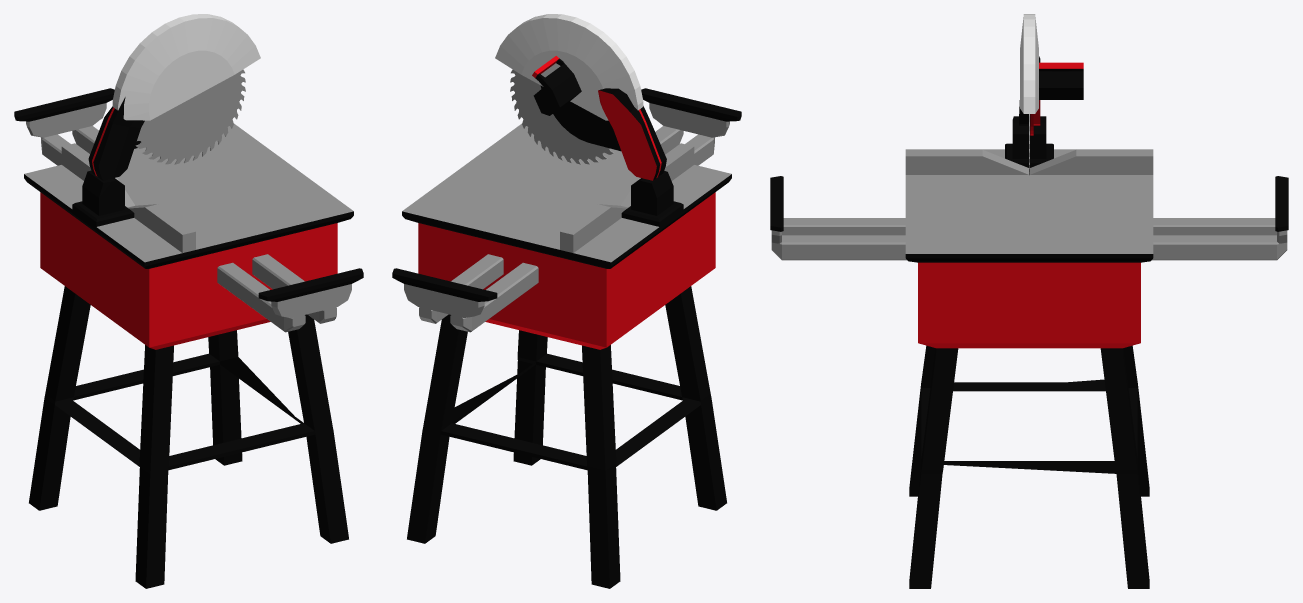
The model's file is Chop Saw.fbx.
The picture shows the model from 3 angles, left to right: view 1: azimuth 30°, elevation 25°; view 2: azimuth 150°, elevation 25°; view 3: azimuth 270°, elevation 25°; orthographic projection. The views are drawn at different scales.
Parts seen in each view (by area): view 1: Chop saw bench, chop saw guard, Chop saw blade, saw arm; view 2: Chop saw bench, chop saw guard, saw arm, Chop saw blade; view 3: Chop saw bench, saw arm, chop saw guard.
Boxes of the visible parts, left/top/right/bottom form: Chop saw bench: left=14, top=88, right=363, bottom=588; chop saw guard: left=112, top=14, right=260, bottom=120; Chop saw blade: left=135, top=69, right=245, bottom=164; saw arm: left=88, top=97, right=144, bottom=180; Chop saw bench: left=392, top=88, right=741, bottom=588; chop saw guard: left=495, top=14, right=643, bottom=120; saw arm: left=532, top=56, right=666, bottom=180; Chop saw blade: left=510, top=69, right=613, bottom=164; Chop saw bench: left=770, top=116, right=1288, bottom=588; saw arm: left=1019, top=56, right=1083, bottom=135; chop saw guard: left=1020, top=14, right=1038, bottom=113.
Size of the model in its own units: 60.96 by 140 by 128.
